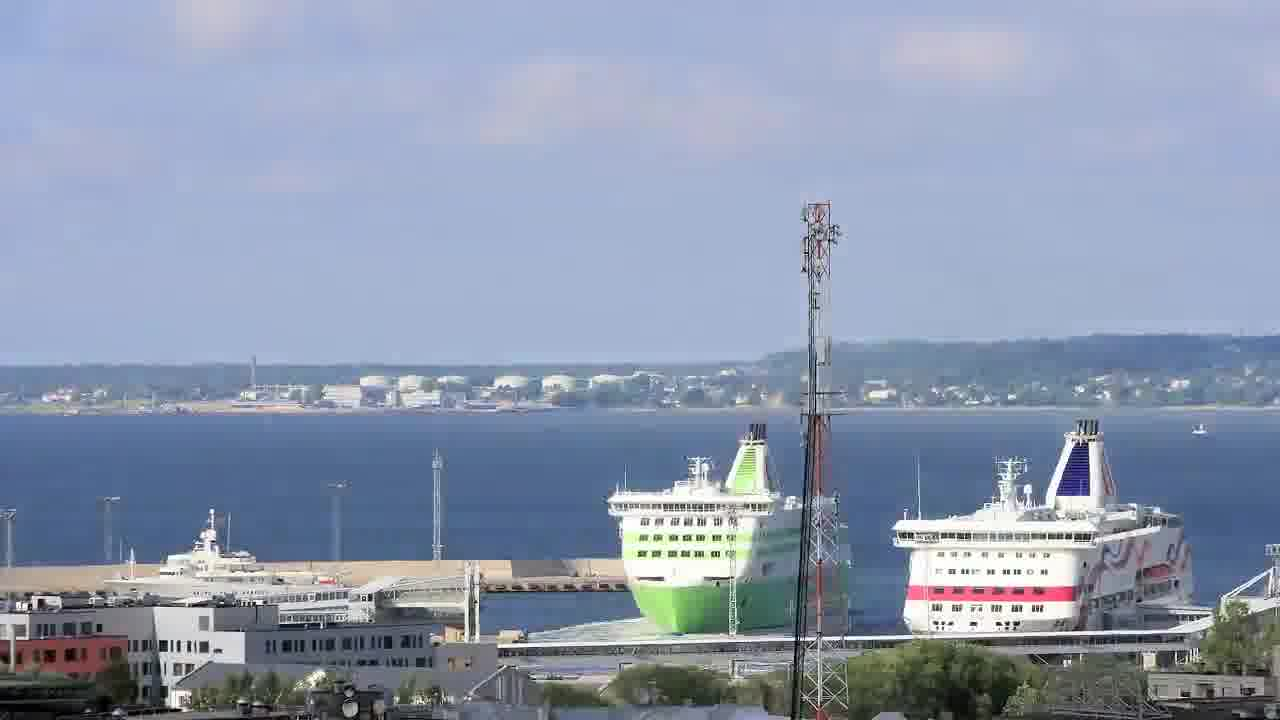type-2: (1170, 394, 1219, 453)
type-3: (868, 415, 1225, 638), (589, 428, 861, 670), (84, 511, 353, 609)
